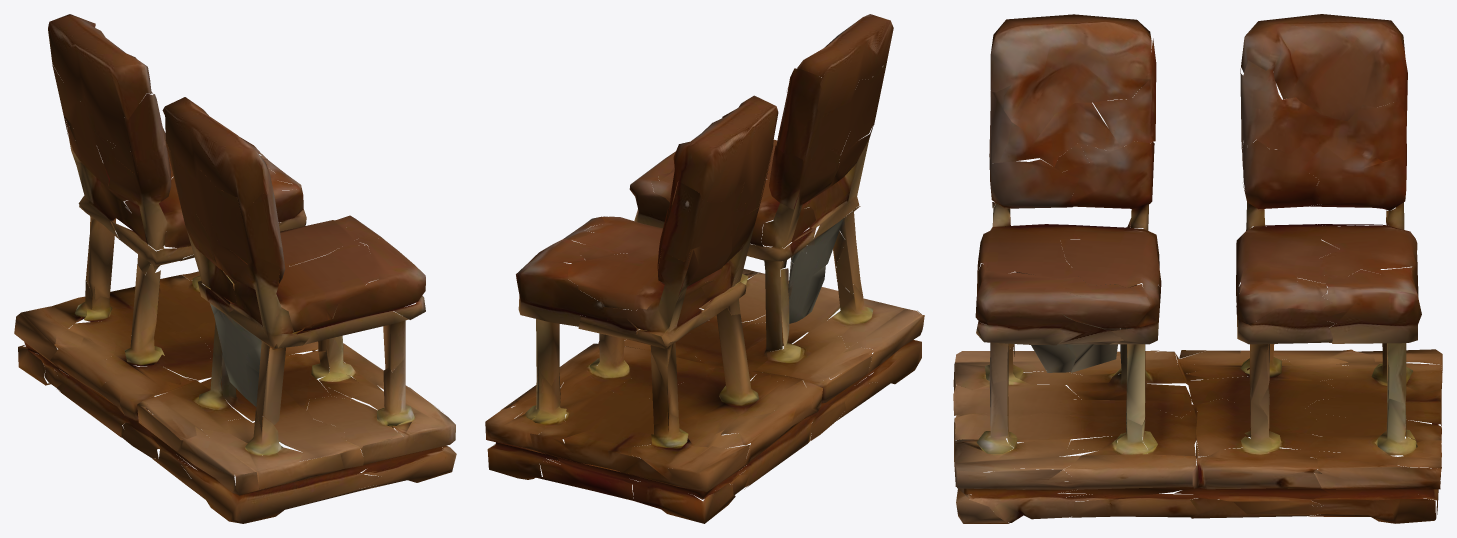
The model's file is penn_shoeshine.glb.
The picture shows the model from 3 angles, left to right: view 1: azimuth 30°, elevation 25°; view 2: azimuth 150°, elevation 25°; view 3: azimuth 270°, elevation 25°; orthographic projection. The views are drawn at different scales.
Parts seen in each view (by area): view 1: tripo_node_cf46bf76-cfae-4eec-95e8-d6904cfe4683; view 2: tripo_node_cf46bf76-cfae-4eec-95e8-d6904cfe4683; view 3: tripo_node_cf46bf76-cfae-4eec-95e8-d6904cfe4683.
Boxes of the visible parts, left/top/right/bottom form: tripo_node_cf46bf76-cfae-4eec-95e8-d6904cfe4683: left=14, top=14, right=456, bottom=523; tripo_node_cf46bf76-cfae-4eec-95e8-d6904cfe4683: left=485, top=14, right=924, bottom=523; tripo_node_cf46bf76-cfae-4eec-95e8-d6904cfe4683: left=953, top=14, right=1442, bottom=523.
Size of the model in its own units: 0.5841 by 0.9012 by 1.
Materials: 1 (1 with a texture image).
